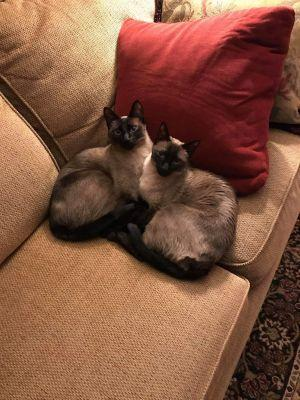siamese: (98, 95, 156, 156)
